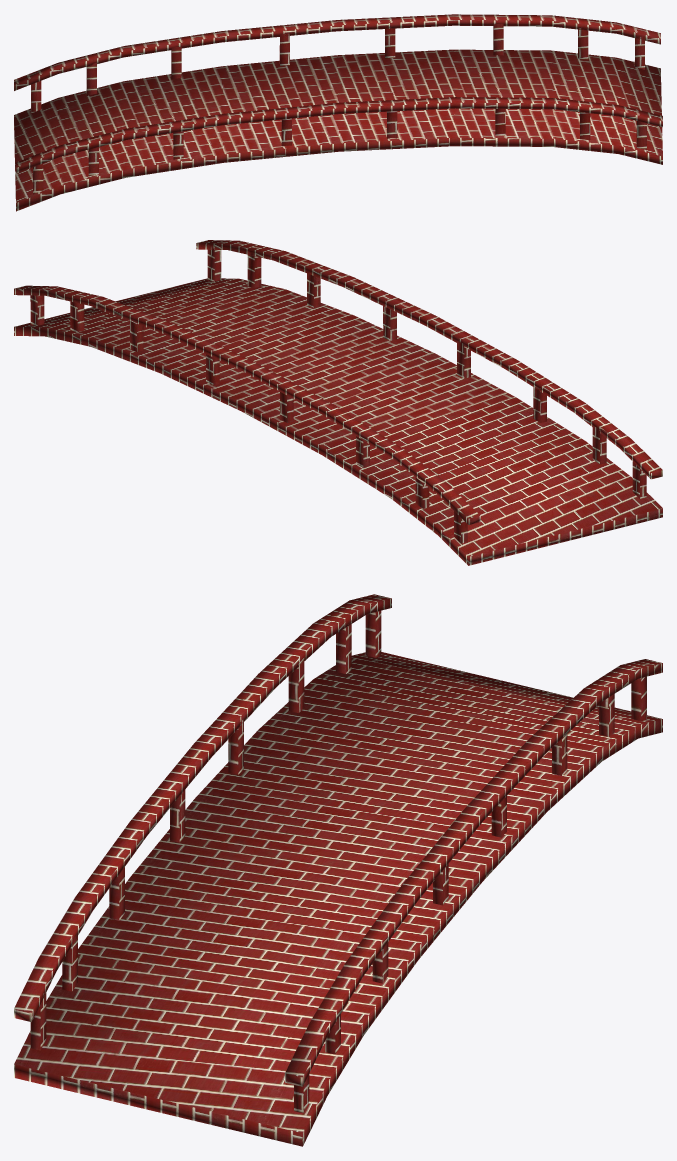
The model's file is bridge.obj.
The picture shows the model from 3 angles, top to bottom: view 1: azimuth 30°, elevation 25°; view 2: azimuth 150°, elevation 25°; view 3: azimuth 270°, elevation 25°; orthographic projection. The views are drawn at different scales.
Parts seen in each view (by area): view 1: Cylinder_Mesh_Mesh_Mesh_Mesh_Mesh_Mesh_Mesh; view 2: Cylinder_Mesh_Mesh_Mesh_Mesh_Mesh_Mesh_Mesh; view 3: Cylinder_Mesh_Mesh_Mesh_Mesh_Mesh_Mesh_Mesh.
Boxes of the visible parts, x1,y1,x2,y2 form: Cylinder_Mesh_Mesh_Mesh_Mesh_Mesh_Mesh_Mesh: (14, 14, 662, 211); Cylinder_Mesh_Mesh_Mesh_Mesh_Mesh_Mesh_Mesh: (14, 240, 662, 565); Cylinder_Mesh_Mesh_Mesh_Mesh_Mesh_Mesh_Mesh: (14, 594, 662, 1146).
Bounding box in the file's own units: 139 × 17.16 × 79.
1 material, 1 textured.
